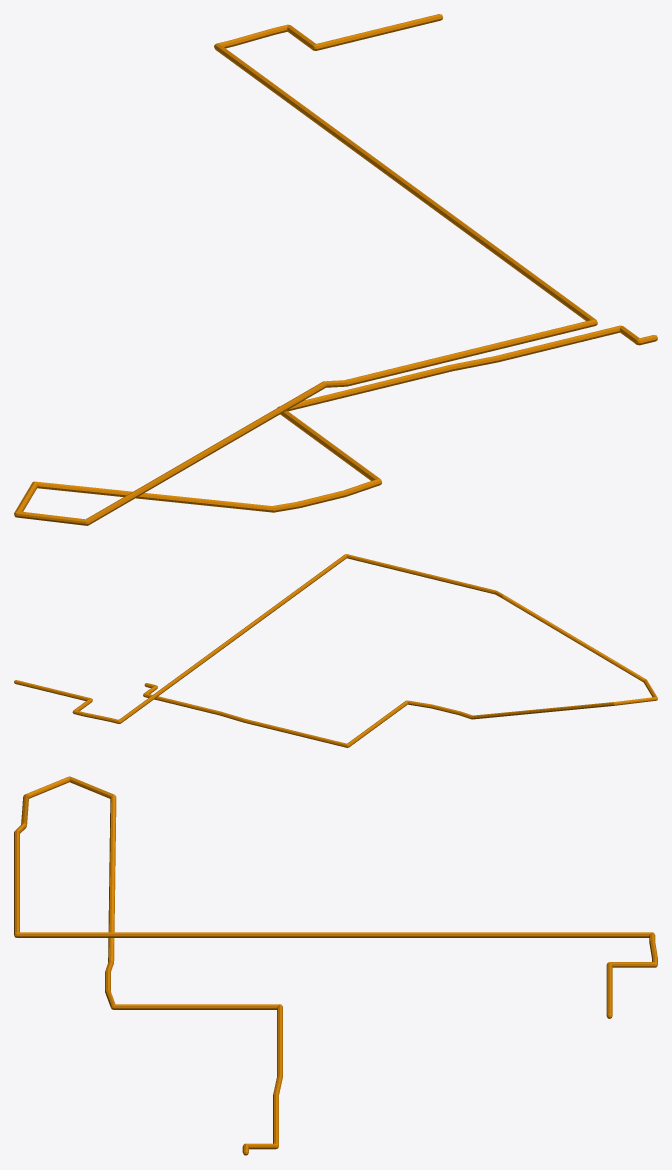
3 renders of one model, top to bottom at view 1: azimuth 30°, elevation 25°; view 2: azimuth 150°, elevation 25°; view 3: azimuth 270°, elevation 25°, orthographic. The views are drawn at different scales.
Size of the model in its own units: 2409 by 520 by 2129.
